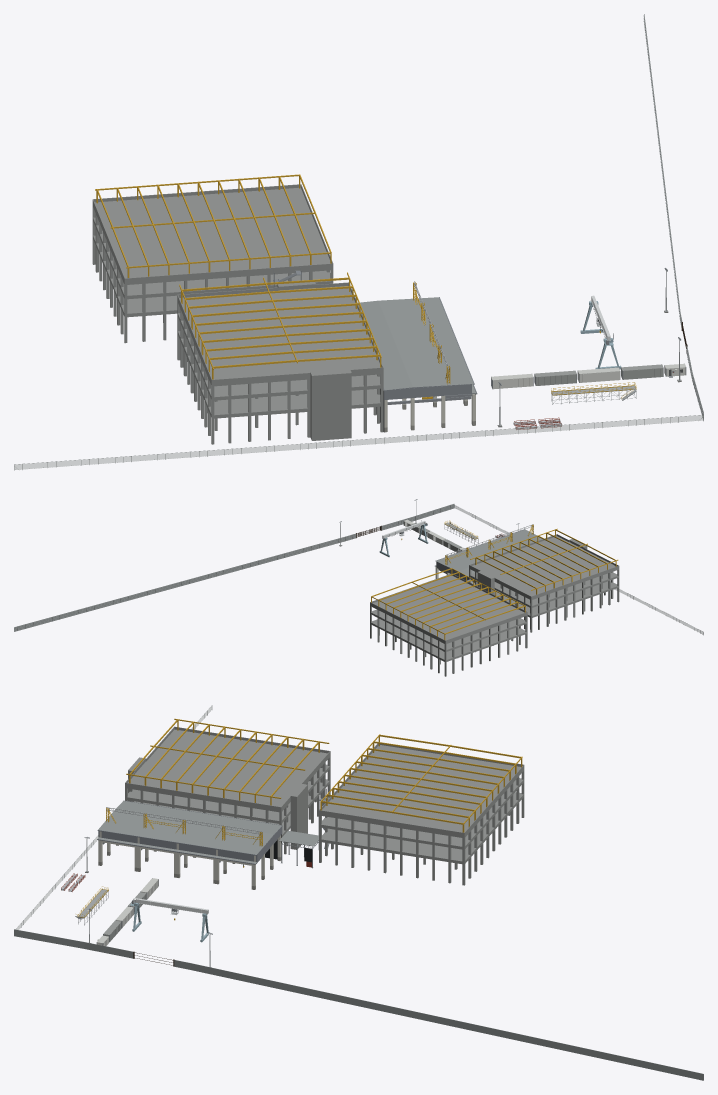
The model's file is site_context.glb.
3 views of the same model, one above another, from view 1: azimuth 30°, elevation 25°; view 2: azimuth 150°, elevation 25°; view 3: azimuth 270°, elevation 25° (orthographic). The views are drawn at different scales.
Parts seen in each view (by area): view 1: Factory 2 north block|RC slabs + spandrel beams, Factory 2-storey west|RC slabs + spandrel beams, Factory 1 (1-storey shed)|Main roof (profiled metal), Factory 2-storey west|Yellow steel roof storey (open, under , Factory 2-storey west|RC columns, Factory 2 north block|Yellow steel roof storey (open, under , Boundary hoarding|SSW chain-link fence - mesh panel, Factory 2-storey west|RC cores, Factory 2 north block|RC columns, Factory 1 (1-storey shed)|Ribbed cladding band (front), Boundary hoarding|Posts + rails (yard side), Boundary hoarding|SSW chain-link fence - posts + top rail; view 2: Factory 2 north block|RC slabs + spandrel beams, Factory 2-storey west|RC slabs + spandrel beams, Factory 2 north block|Yellow steel roof storey (open, under , Boundary hoarding|Corrugated sheet, Factory 2 north block|RC columns, Factory 2-storey west|Yellow steel roof storey (open, under , Factory 1 (1-storey shed)|Main roof (profiled metal), Factory 2-storey west|RC columns, Boundary hoarding|Posts + rails (yard side), Boundary hoarding|SSW chain-link fence - mesh panel, Boundary hoarding|Top capping, Factory 2-storey west|RC cores; view 3: Factory 2 north block|RC slabs + spandrel beams, Factory 2-storey west|RC slabs + spandrel beams, Factory 1 (1-storey shed)|Main roof (profiled metal), Boundary hoarding|Corrugated sheet, Factory 2 north block|Yellow steel roof storey (open, under , Factory 2 north block|RC columns, Factory 2-storey west|Yellow steel roof storey (open, under , Factory 2-storey west|RC columns, Factory 1 (1-storey shed)|Ribbed cladding band (front), Factory 2-storey west|RC cores, Boundary hoarding|Top capping.
Part boxes in pixels (x1,y1,x2,y2): Factory 2 north block|RC slabs + spandrel beams: [92, 184, 333, 317]; Factory 2-storey west|RC slabs + spandrel beams: [177, 282, 383, 418]; Factory 1 (1-storey shed)|Main roof (profiled metal): [357, 297, 473, 390]; Factory 2-storey west|Yellow steel roof storey (open, under : [179, 272, 381, 379]; Factory 2-storey west|RC columns: [177, 302, 383, 444]; Factory 2 north block|Yellow steel roof storey (open, under : [95, 174, 331, 277]; Boundary hoarding|SSW chain-link fence - mesh panel: [14, 415, 702, 469]; Factory 2-storey west|RC cores: [277, 282, 351, 440]; Factory 2 north block|RC columns: [92, 206, 333, 343]; Factory 1 (1-storey shed)|Ribbed cladding band (front): [384, 384, 471, 399]; Boundary hoarding|Posts + rails (yard side): [643, 15, 703, 420]; Boundary hoarding|SSW chain-link fence - posts + top rail: [14, 415, 701, 470]; Factory 2 north block|RC slabs + spandrel beams: [370, 574, 527, 661]; Factory 2-storey west|RC slabs + spandrel beams: [469, 534, 619, 618]; Factory 2 north block|Yellow steel roof storey (open, under : [371, 568, 525, 639]; Boundary hoarding|Corrugated sheet: [14, 504, 454, 631]; Factory 2 north block|RC columns: [370, 605, 527, 676]; Factory 2-storey west|Yellow steel roof storey (open, under : [470, 528, 618, 594]; Factory 1 (1-storey shed)|Main roof (profiled metal): [436, 529, 542, 576]; Factory 2-storey west|RC columns: [469, 569, 619, 632]; Boundary hoarding|Posts + rails (yard side): [14, 504, 454, 631]; Boundary hoarding|SSW chain-link fence - mesh panel: [454, 505, 703, 634]; Boundary hoarding|Top capping: [14, 504, 452, 627]; Factory 2-storey west|RC cores: [477, 539, 586, 593]; Factory 2 north block|RC slabs + spandrel beams: [319, 742, 524, 864]; Factory 2-storey west|RC slabs + spandrel beams: [125, 726, 330, 836]; Factory 1 (1-storey shed)|Main roof (profiled metal): [98, 801, 281, 854]; Boundary hoarding|Corrugated sheet: [14, 929, 703, 1080]; Factory 2 north block|Yellow steel roof storey (open, under : [320, 734, 522, 832]; Factory 2 north block|RC columns: [319, 770, 524, 885]; Factory 2-storey west|Yellow steel roof storey (open, under : [126, 718, 329, 805]; Factory 2-storey west|RC columns: [125, 756, 330, 854]; Factory 1 (1-storey shed)|Ribbed cladding band (front): [98, 826, 282, 861]; Factory 2-storey west|RC cores: [128, 757, 307, 849]; Boundary hoarding|Top capping: [14, 929, 702, 1073].
Bounding box in the file's own units: 314 × 24.75 × 248.
